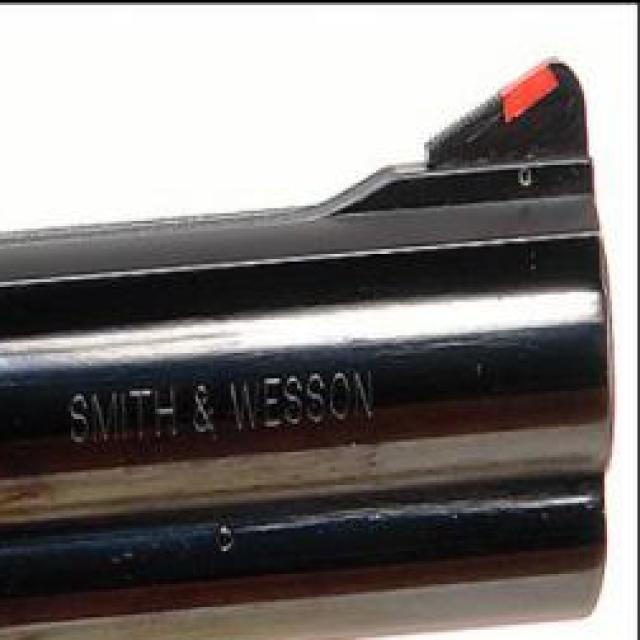pistol: (0, 53, 615, 640)
